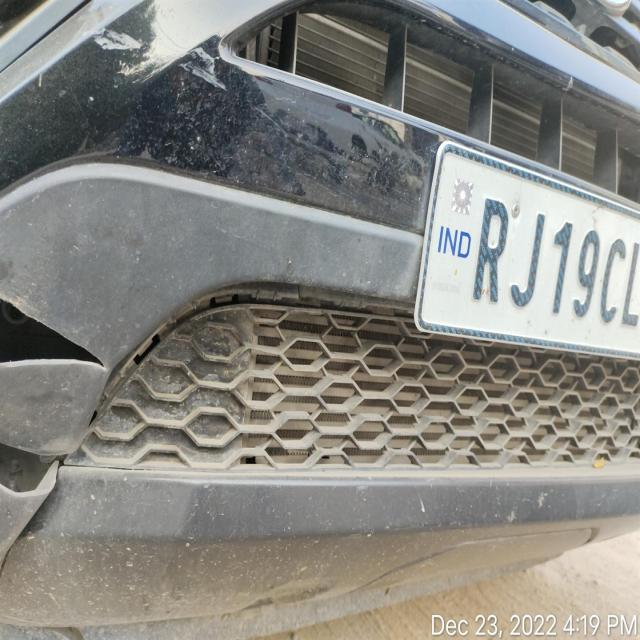damage: (0, 288, 112, 367), (0, 441, 70, 492)
